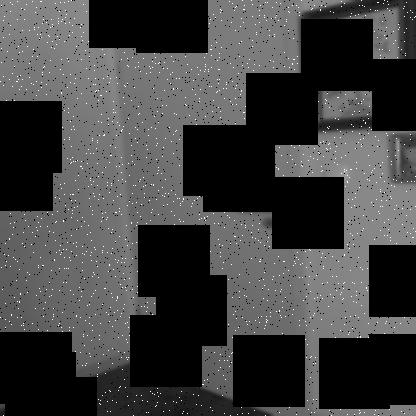Porte: (108, 0, 312, 415)
